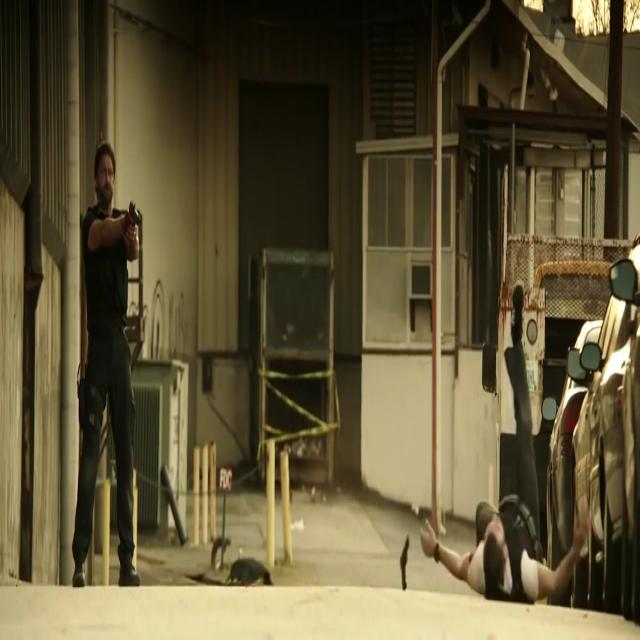Weapon: (120, 199, 145, 240)
